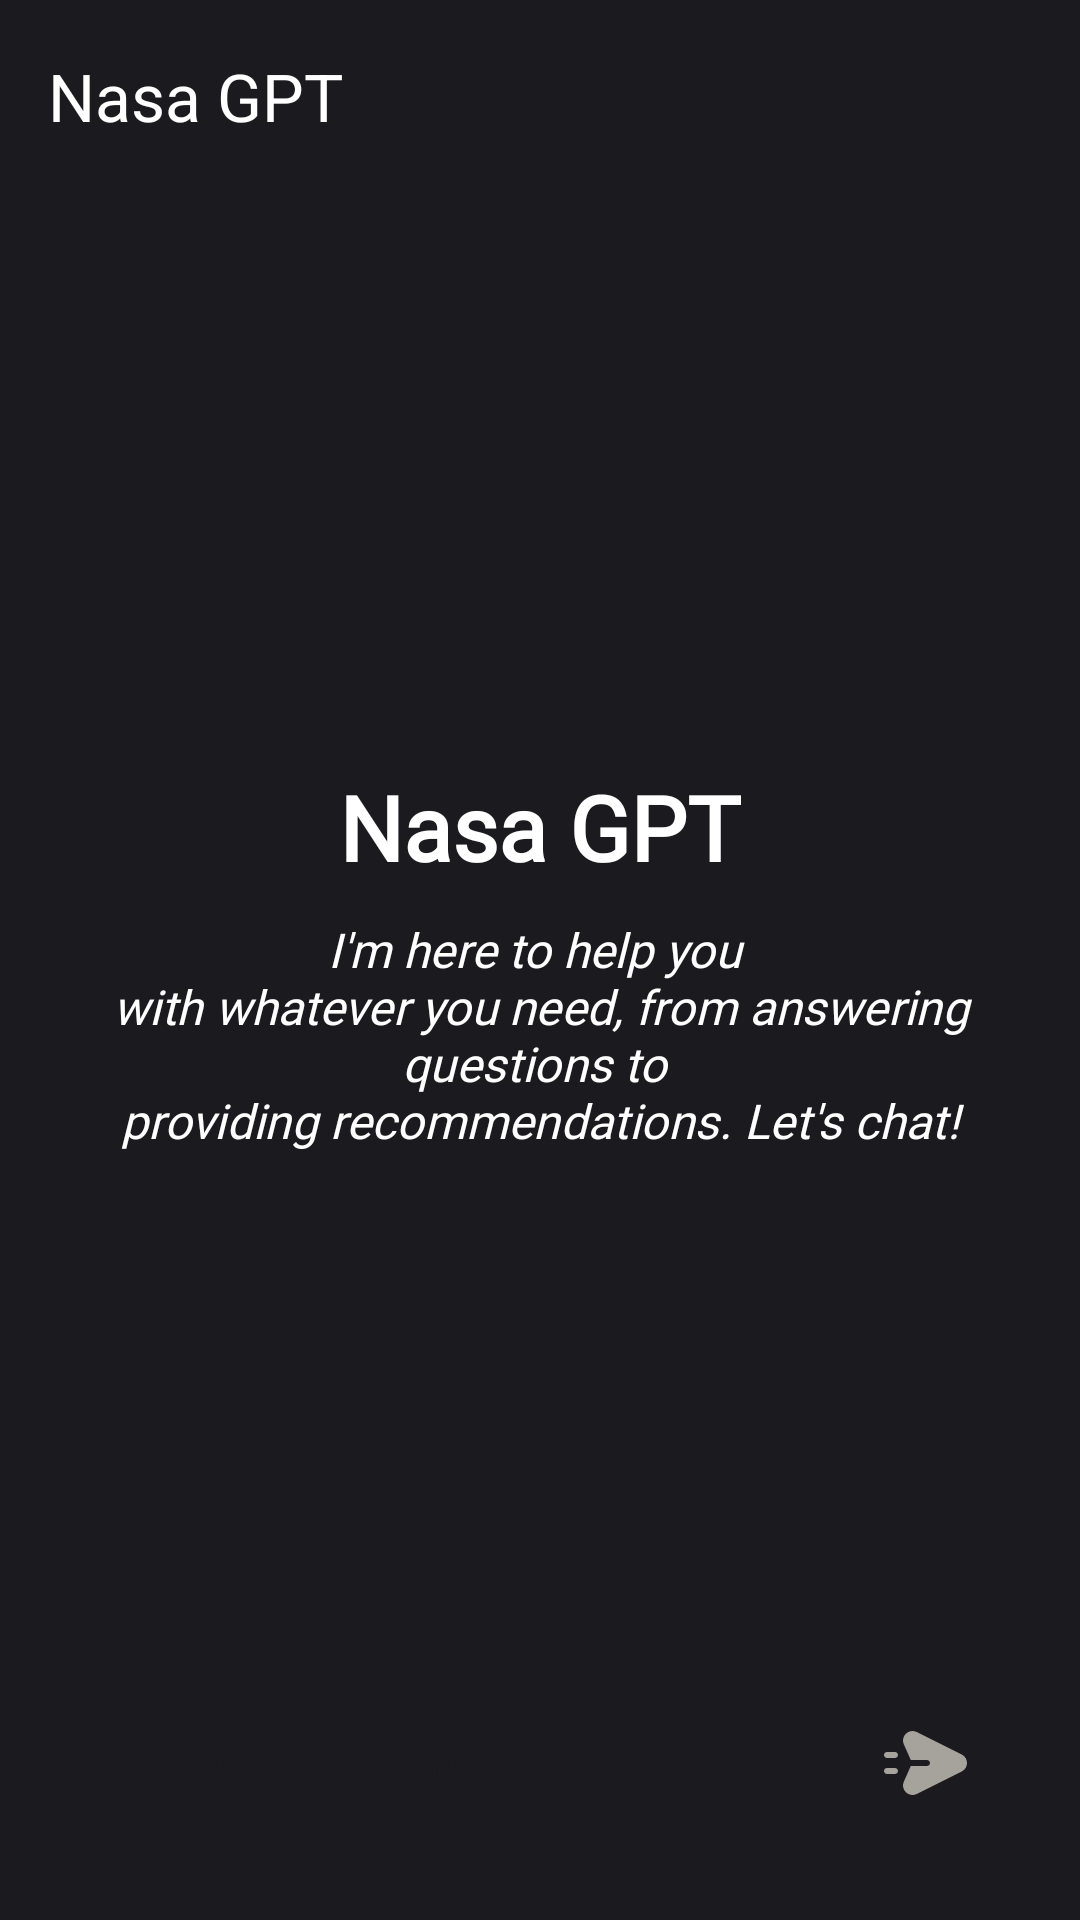

Icons on this 1080px×1920px Android screen, each with the point to tap as [x,y]:
message send: [925,1763]
